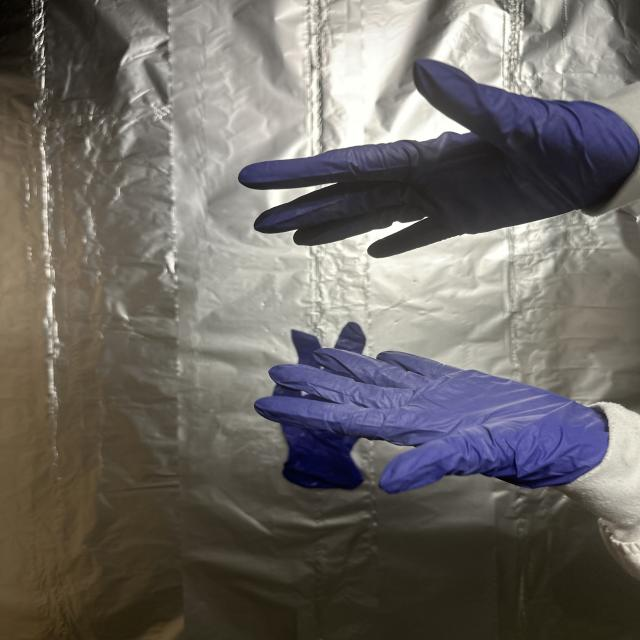gloves_contaminated: (239, 59, 640, 258), (255, 348, 610, 493)
